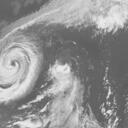cyclone: (1, 34, 40, 103), (47, 62, 84, 92)
